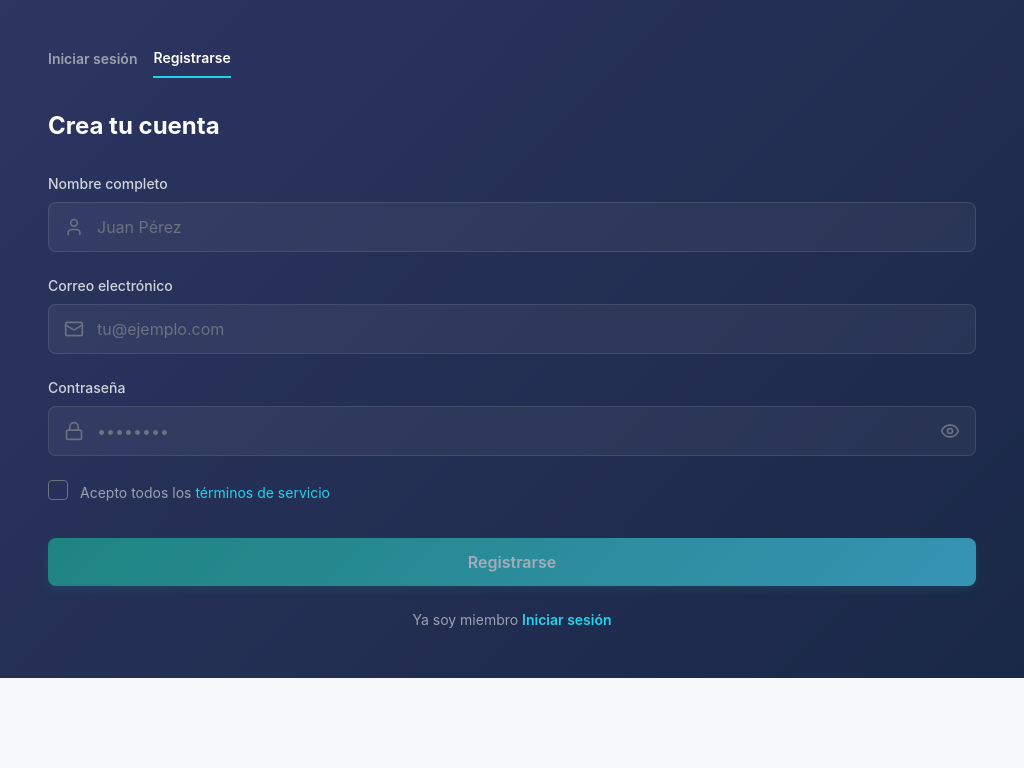
Test: AuthRightPanel — accesibilidad (FE-419) › registro inválido: cada campo queda marcado y enlazado con su mensaje
Type "no-es-email" into the field with placeholder "tu@ejemplo.com" at (512, 329), box top-left (48, 304), bottom-right (976, 354)
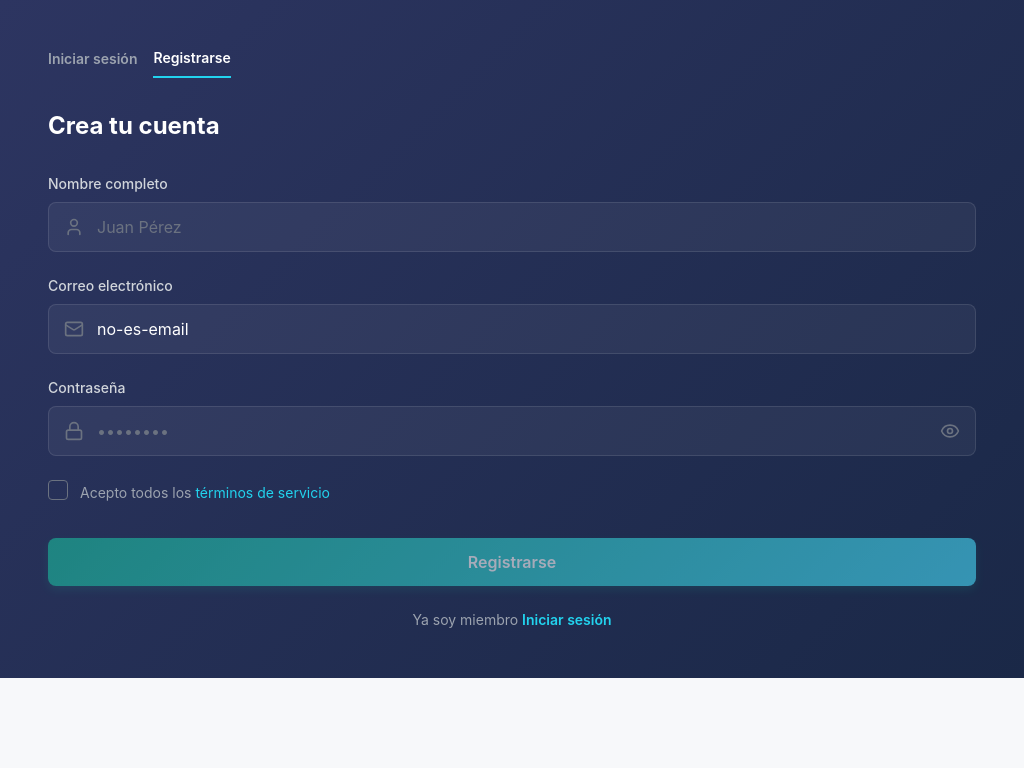
Submit the form
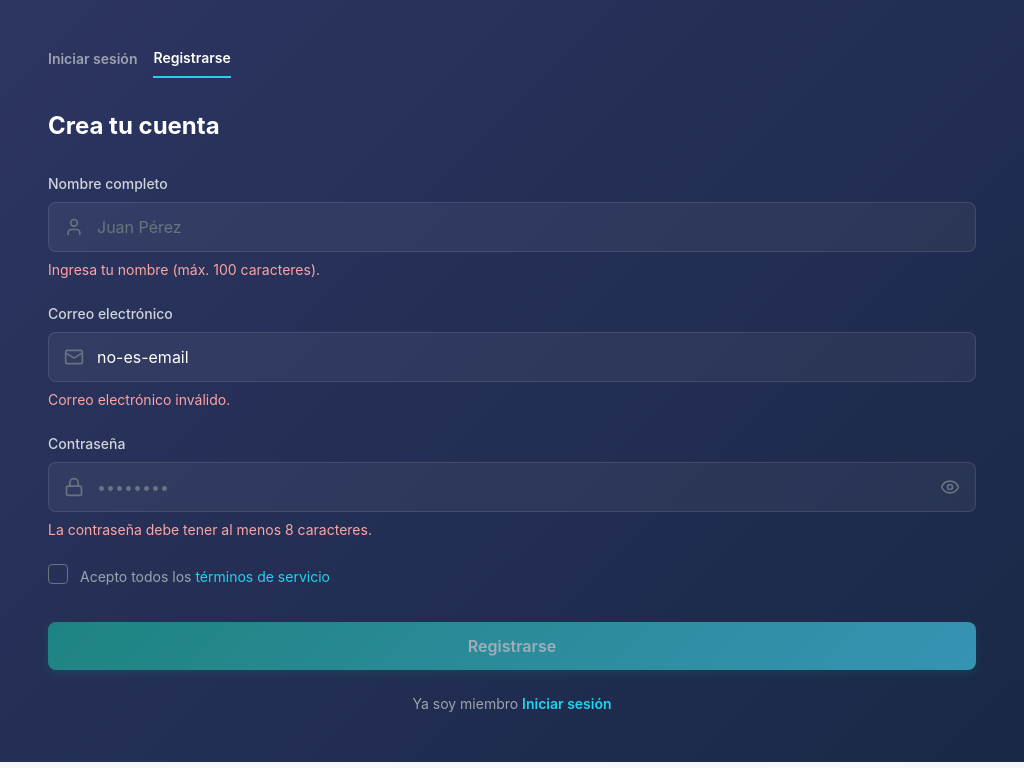
Result: the message "Ingresa tu nombre (máx. 100 caracteres)." is shown at top-left (48, 261), bottom-right (320, 278)
